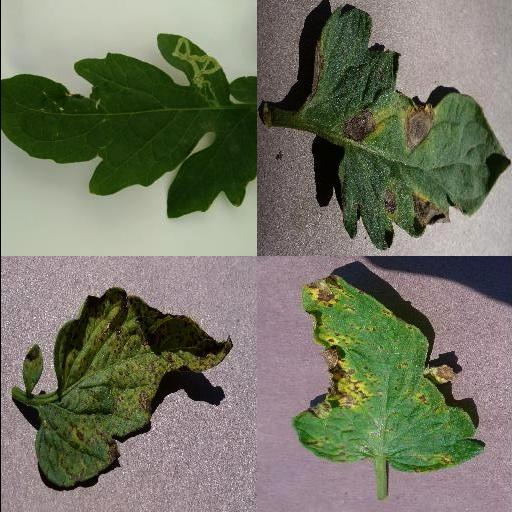Early Blight: (301, 9, 509, 250)
Leaf Miner: (1, 31, 256, 219)
Septoria: (35, 290, 233, 488), (292, 275, 485, 471)
